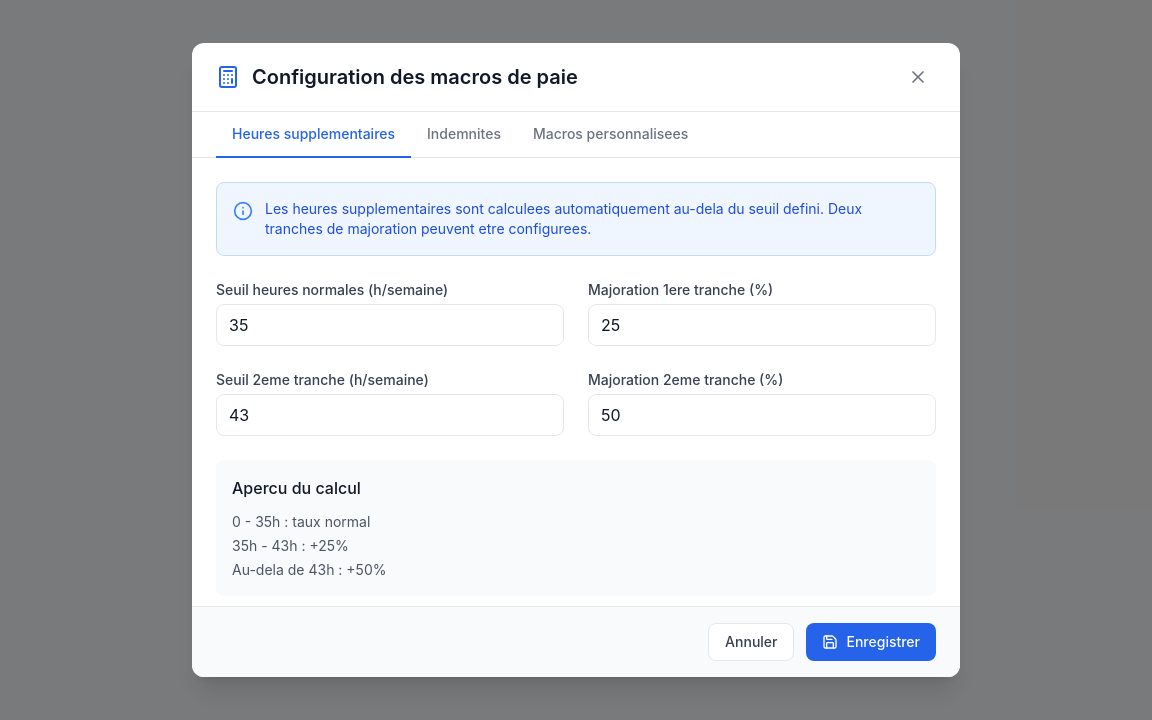
Test: PayrollMacrosConfig › Actions › affiche l'indicateur de modifications non enregistrees
This screenshot has width=1152, height=720.
Replace the text in the number field named "Seuil heures normales" with "40" at (390, 325), box 216,304 -> 564,346
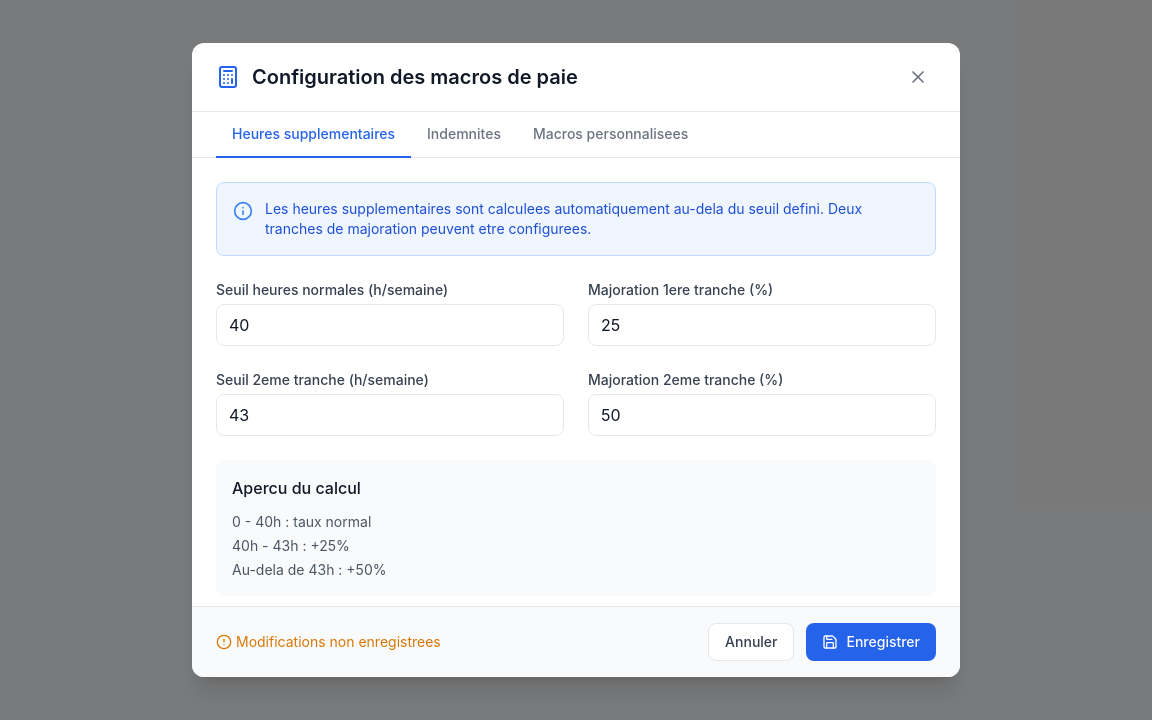
Check: the text "Modifications non enregistrees" is shown, box 216,632 -> 441,652
